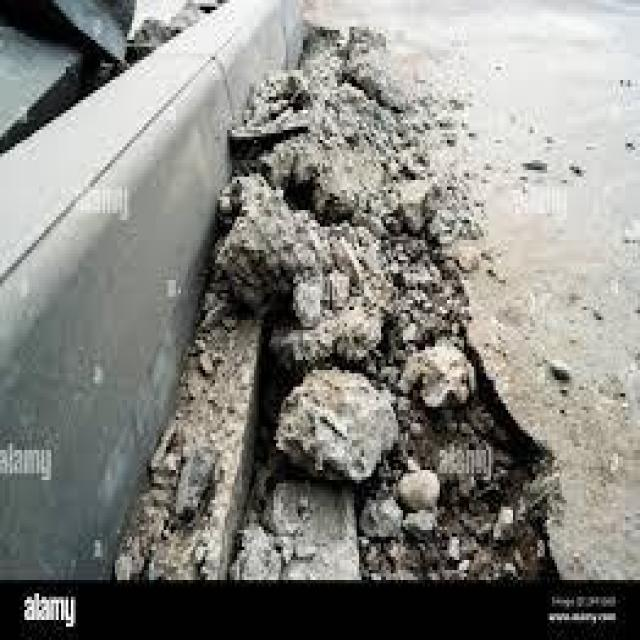curb: (7, 49, 237, 580)
